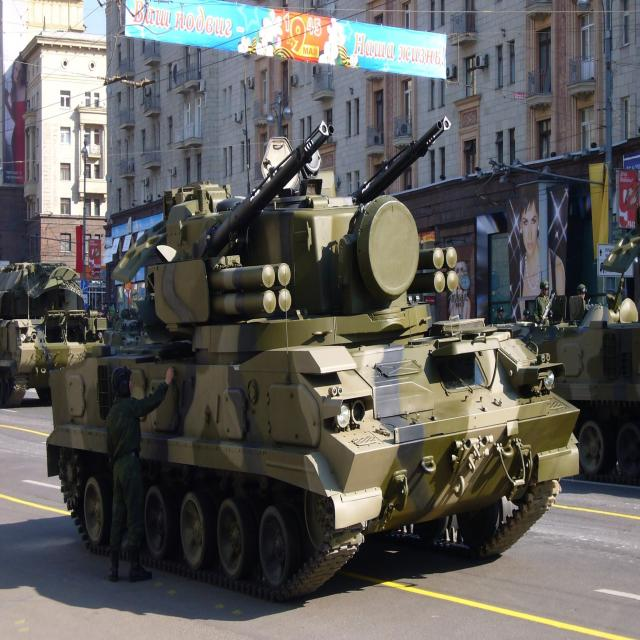Tanks: (24, 146, 592, 597)
